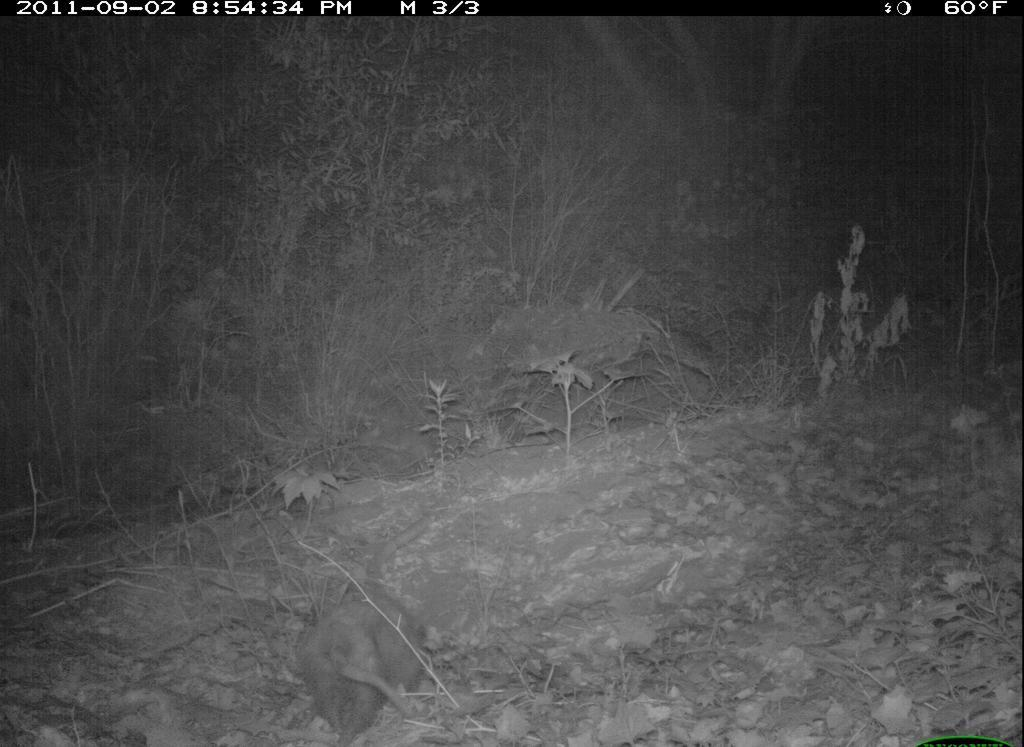opossum: (296, 579, 446, 745)
